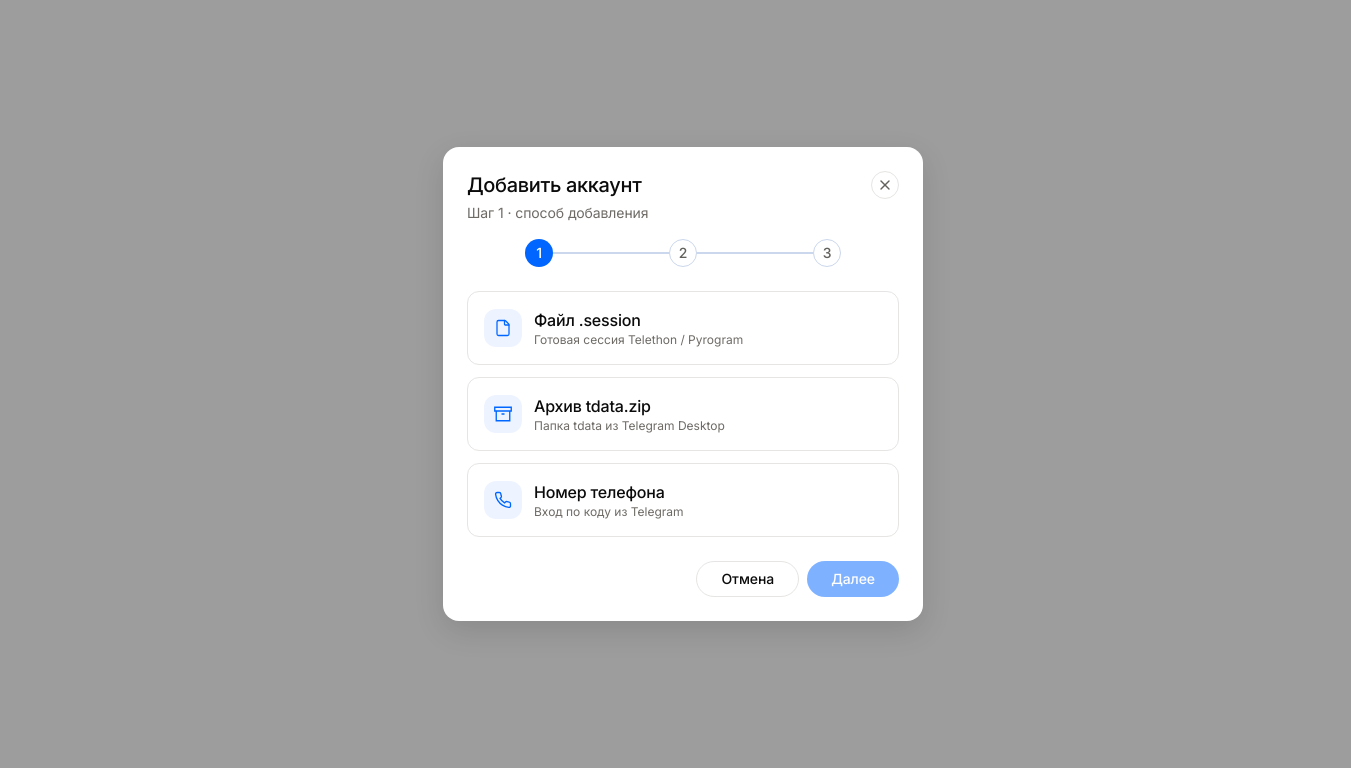
Test: phone method: a failed start-login shows the error and keeps Next disabled
Click the text "Номер телефона". click: point(599, 492)
box: [534,482,665,502]
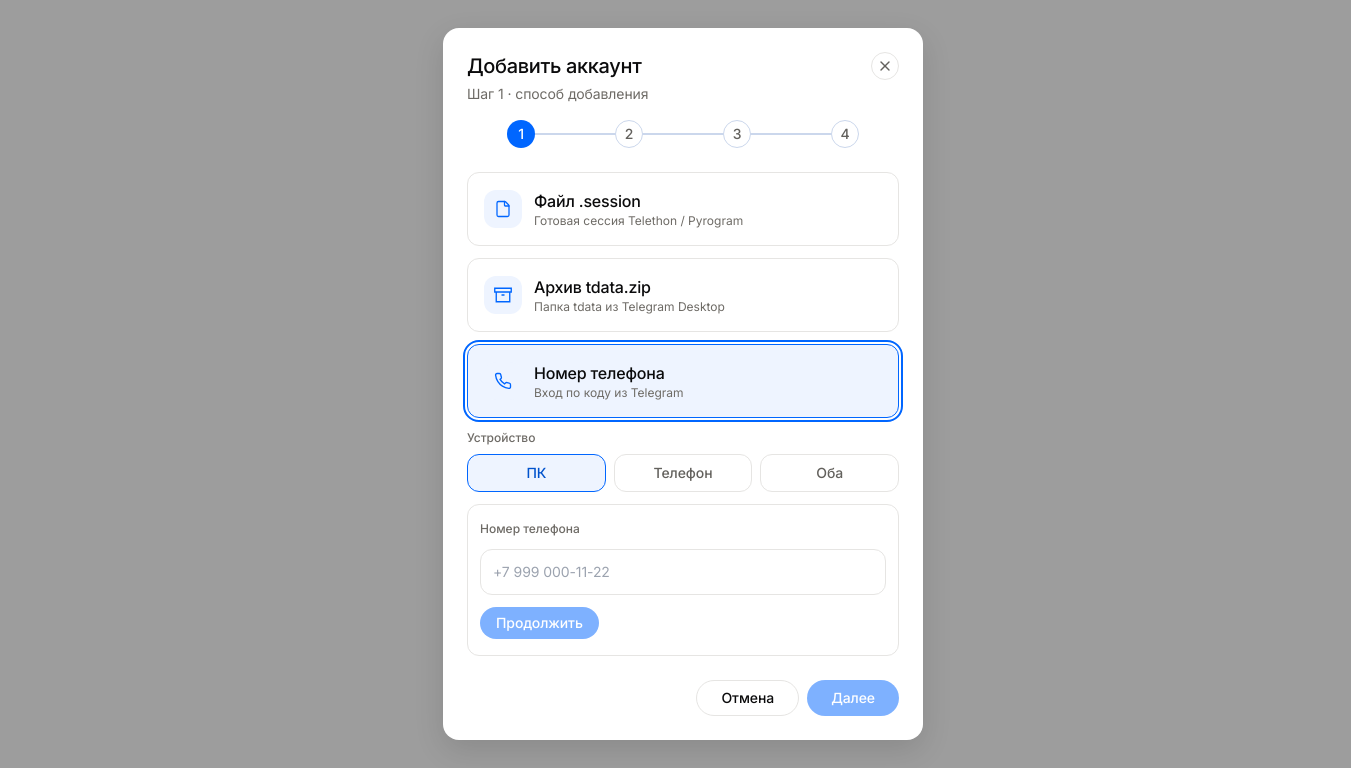
Type "+79990001122" into the field with placeholder "+7 999 000-11-22". click: point(683, 572)
box: [480,549,886,595]
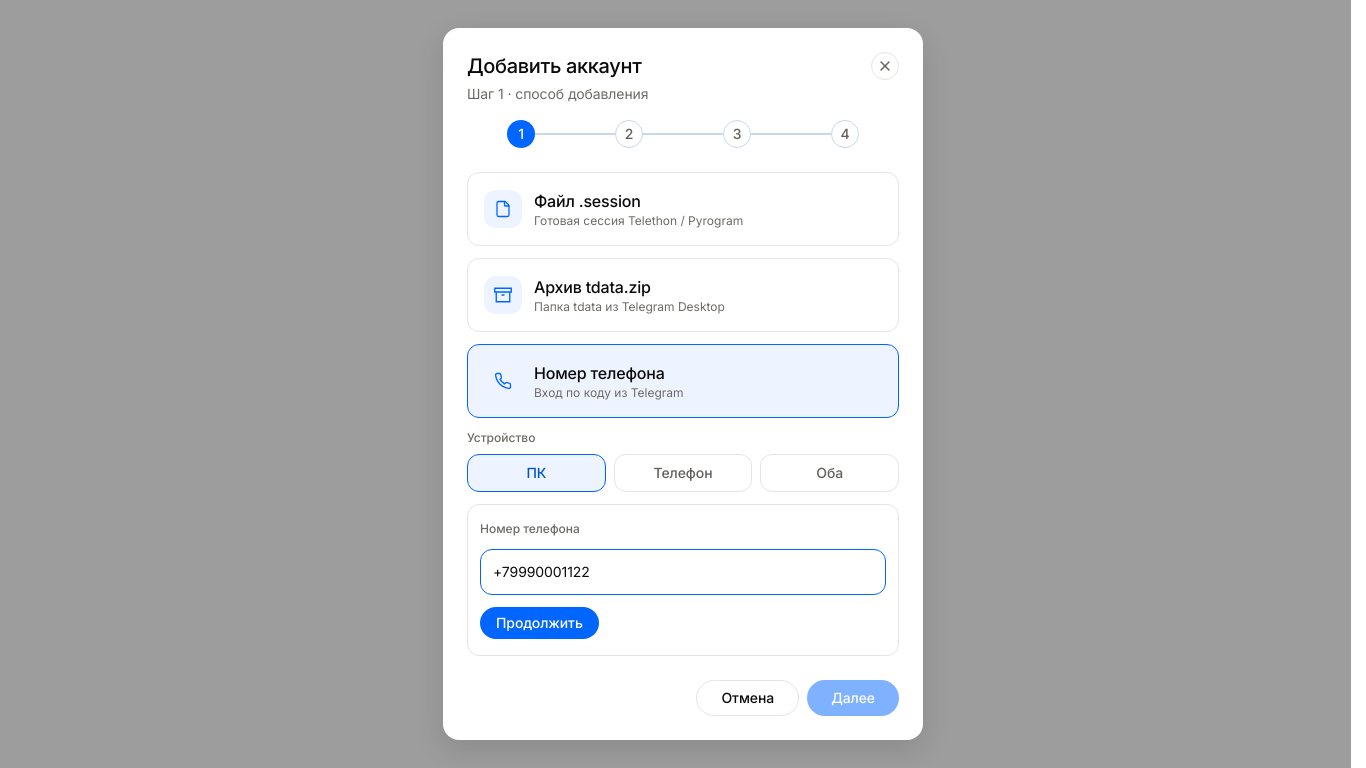
Click the button "Продолжить". click: point(539, 623)
box: [480,607,599,639]
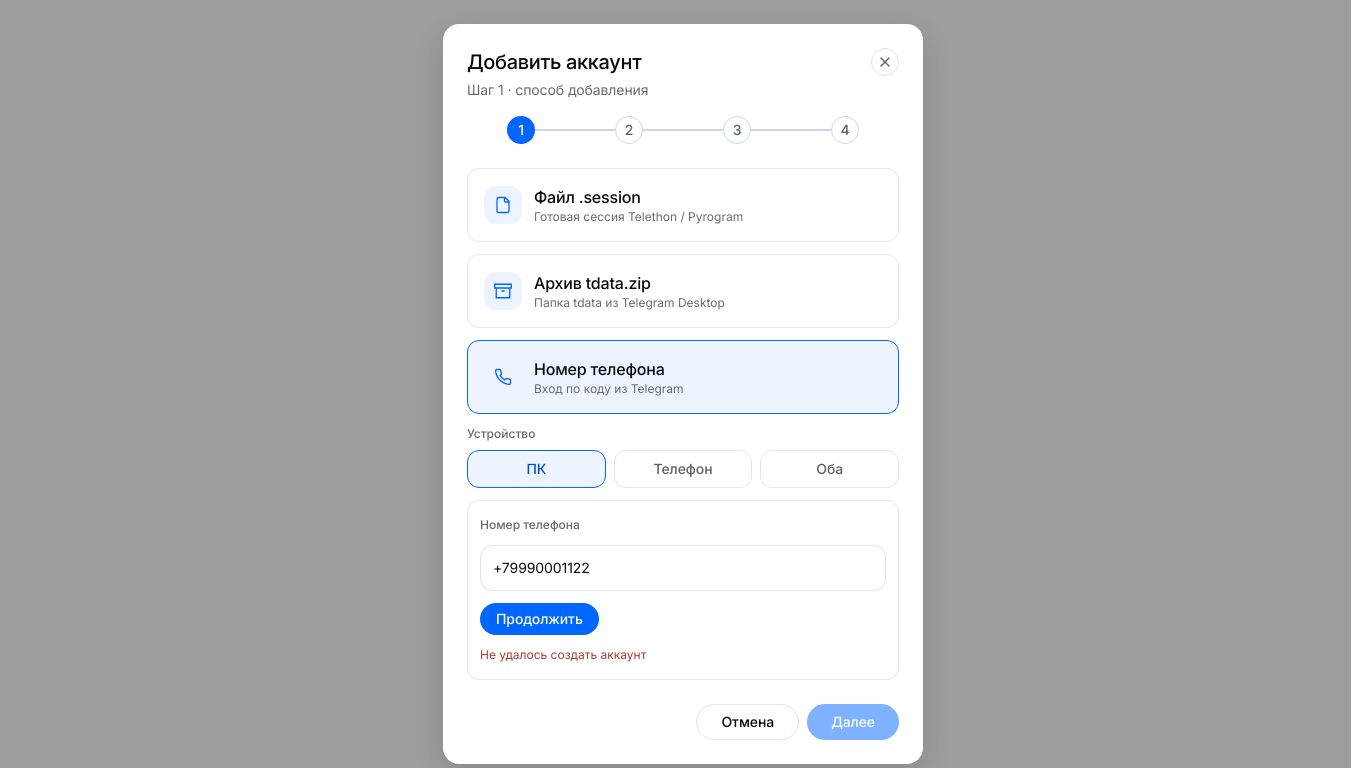
Expected: the button "Далее" is disabled, [807,704,899,740]
Expected: the text "Не удалось создать аккаунт" is shown, [480,647,646,662]
